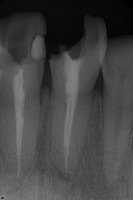Furcation Involvement: (57, 171, 72, 182)
